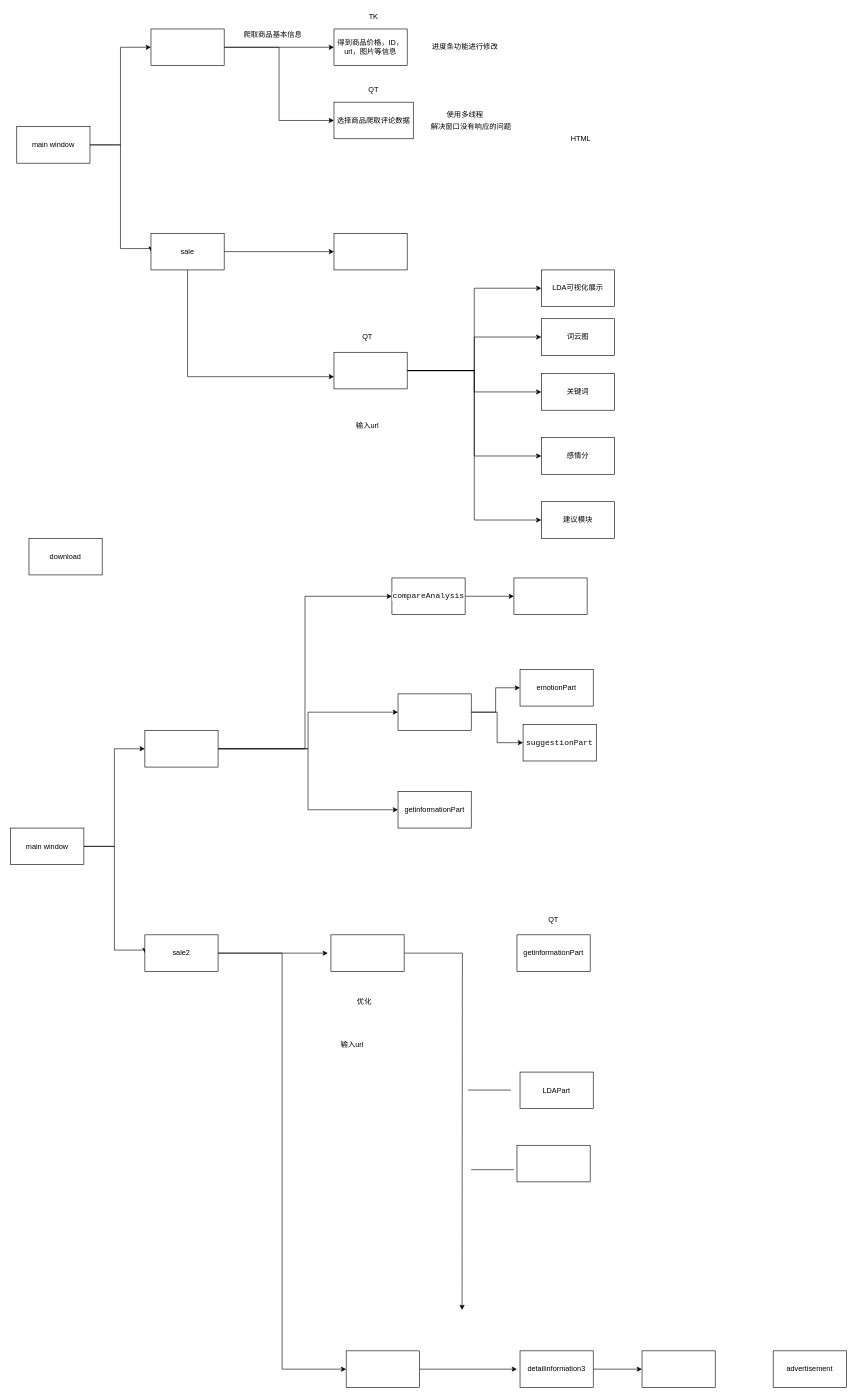
Image size: 857x1398. Some labels were removed from this diagram. Each missing label, with the box of its shape:
Analysisplantform: (641, 1350, 715, 1387)
buy: (150, 28, 224, 66)
buy2: (144, 730, 218, 767)
ciyun: (516, 1145, 590, 1182)
competeAnalysis: (346, 1350, 419, 1387)
detailinformation4: (513, 577, 587, 615)
getAdvantage: (397, 693, 471, 730)
getinformation: (333, 352, 407, 389)
optimal3: (330, 934, 404, 971)
市场洞察: (333, 233, 407, 270)
